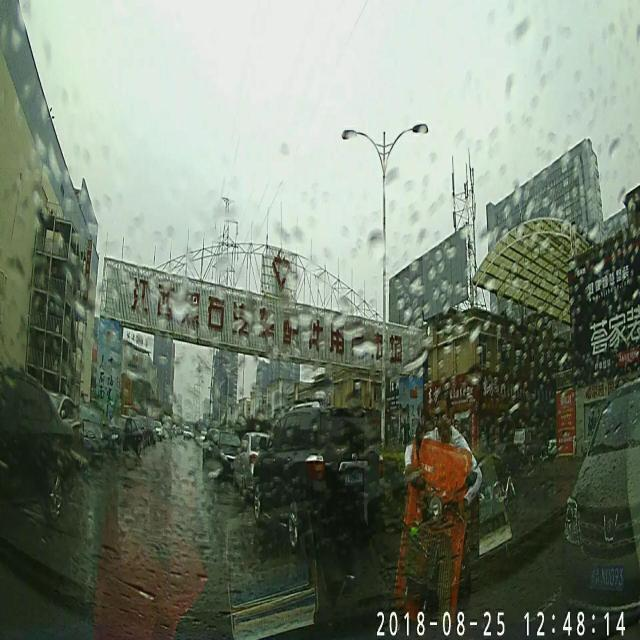car: (566, 378, 640, 620), (252, 401, 374, 546), (0, 370, 72, 520), (234, 433, 268, 495), (78, 403, 104, 461), (110, 413, 142, 457), (212, 428, 232, 476)
